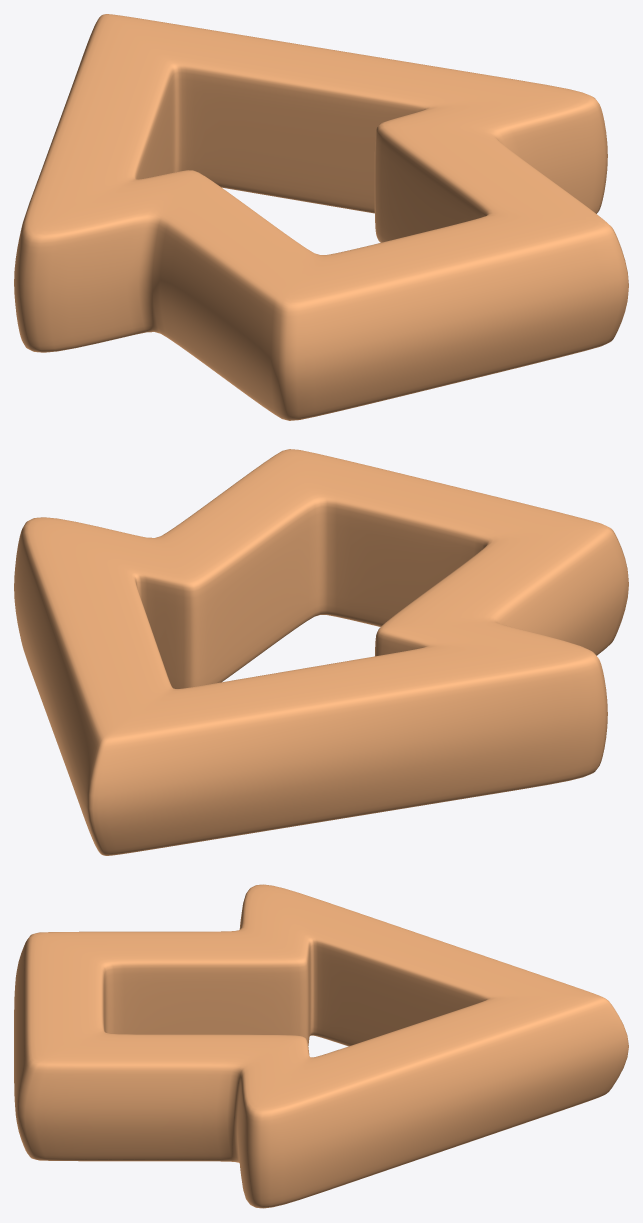
Rendered from arrow.glb.
3 views of the same model, one above another, from view 1: azimuth 30°, elevation 25°; view 2: azimuth 150°, elevation 25°; view 3: azimuth 270°, elevation 25° (orthographic). The views are drawn at different scales.
Parts seen in each view (by area): view 1: _Up_arrow_v1:_Up_arrow_v1; view 2: _Up_arrow_v1:_Up_arrow_v1; view 3: _Up_arrow_v1:_Up_arrow_v1.
Part boxes in pixels (x1,y1,x2,y2): _Up_arrow_v1:_Up_arrow_v1: (14, 14, 628, 420); _Up_arrow_v1:_Up_arrow_v1: (14, 449, 628, 855); _Up_arrow_v1:_Up_arrow_v1: (14, 884, 628, 1208).
Bounding box in the file's own units: 2.71 × 0.5317 × 2.97.
